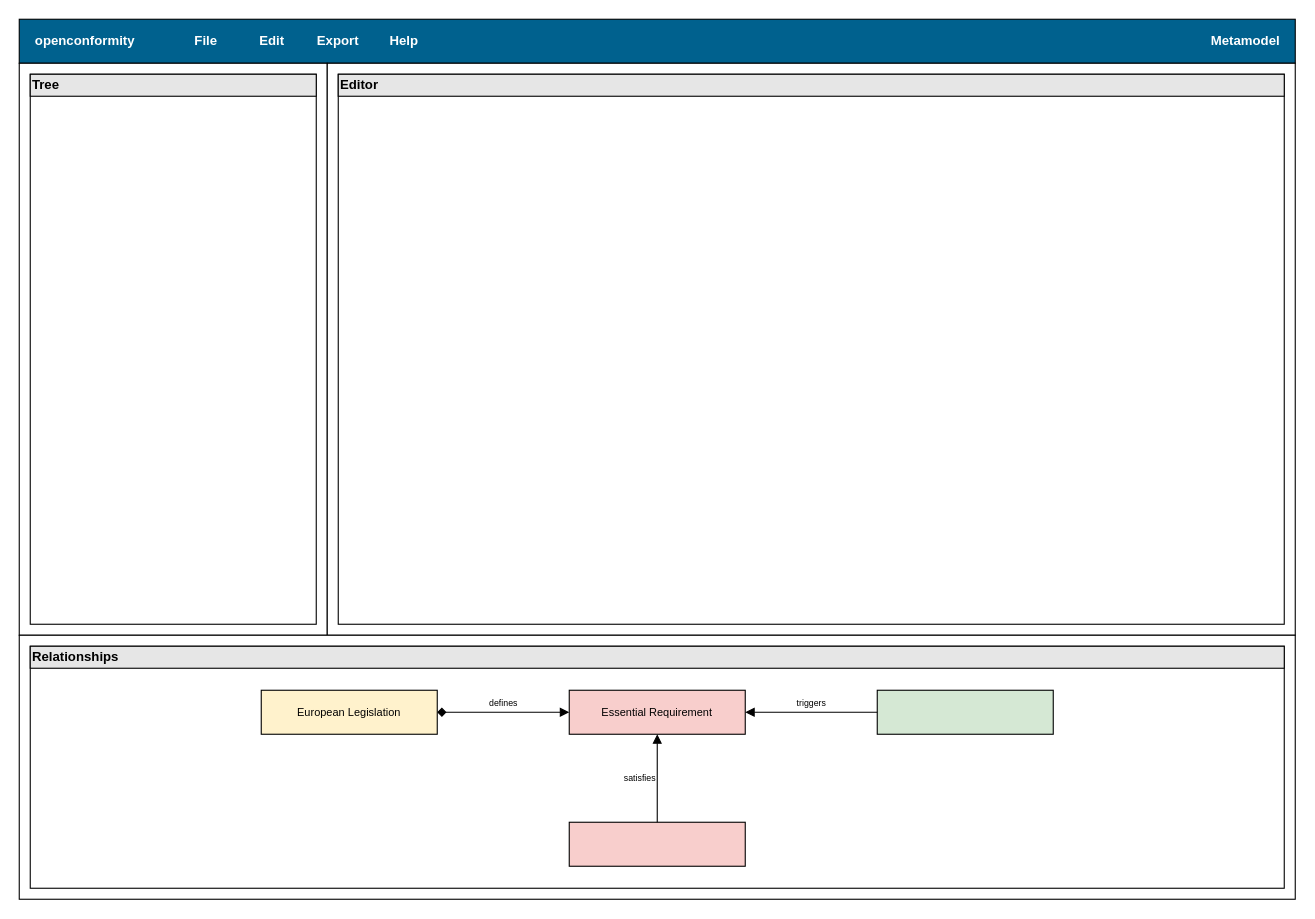
The diagram is 1315 pixels wide and 919 high, and some of its shapes have lost their labels. Here are the shapes that lost their labels. From the top down, the centre of each, then its label:
point 964,711: Single Hazard
point 656,843: Standard Requirement
